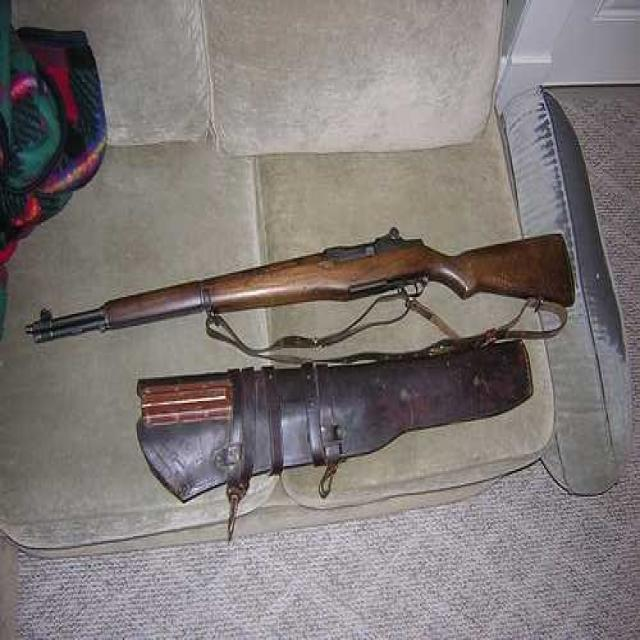weapon: (30, 132, 578, 400)
